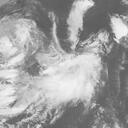cyclone: (45, 38, 105, 96)
